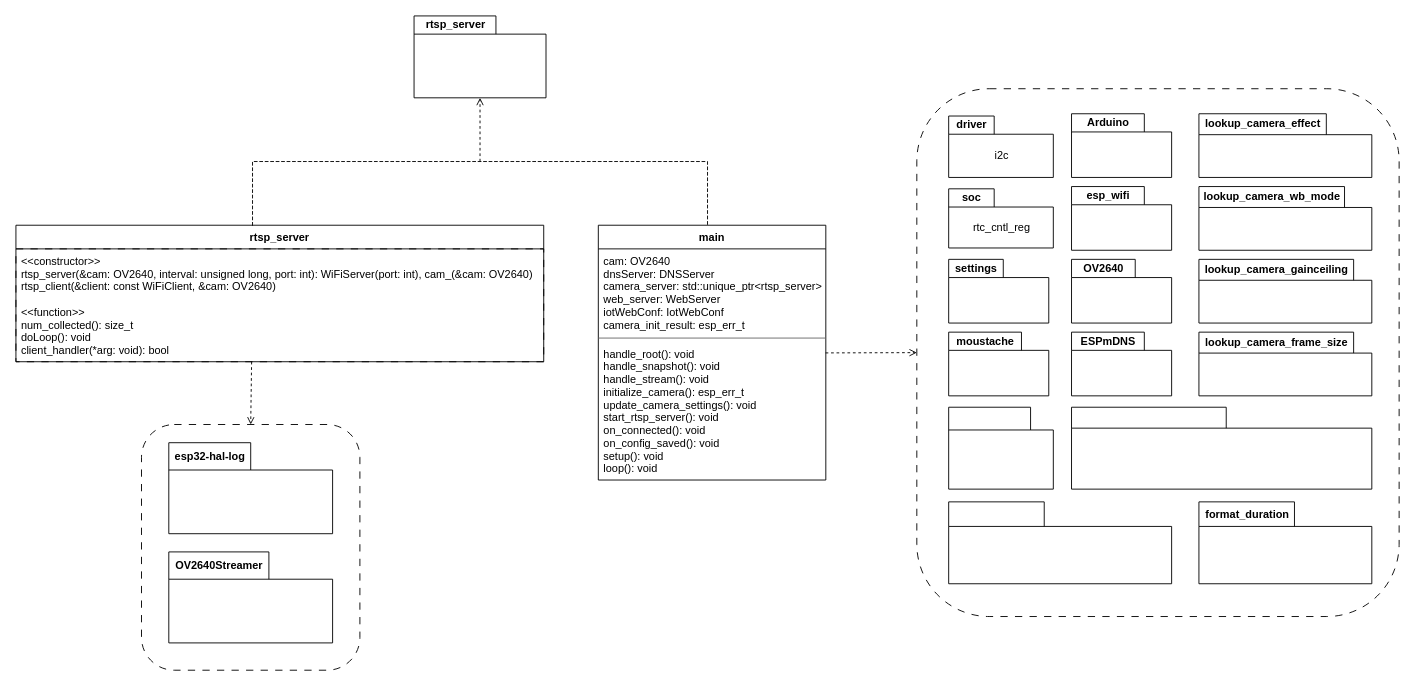
Image size: 1415x686. Some labels were removed from this diagram. The shapes that lost their labels are listed below. From the top down, each one's centre as x and y in pixels, then its label:
(1000,447): IotWebConfT
(1221,447): IotWebConfTParameter
(1060,542): format_number
